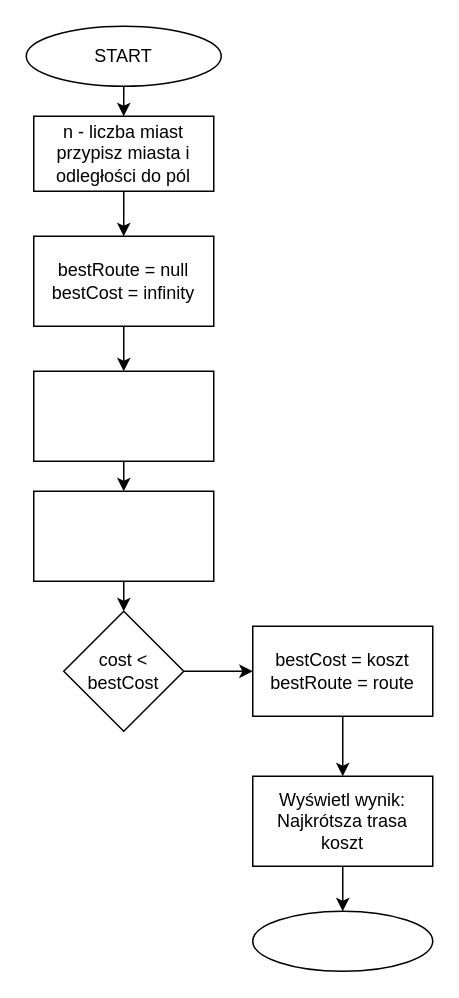
Some shapes in this 459 by 998 pixel diagram are drawn without their labels. Each missing label, with the box of its shape:
dla każdej permutacji calculateCost(route): (32, 490, 214, 581)
generuj wszystkie permutacje miast: (32, 370, 214, 461)
Koniec: (251, 910, 433, 971)
